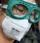with_mask: (1, 1, 40, 43)
